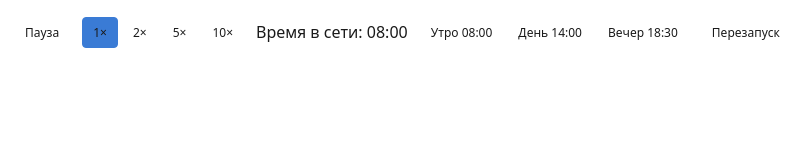
Test: TimeBar › toggles play/pause through the store
Click the button "Пауза". click: (42, 32)
box: [14,16,70,48]
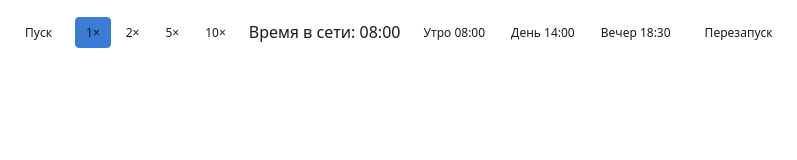
Now the button "Пуск" is shown, box [14,16,63,48]
